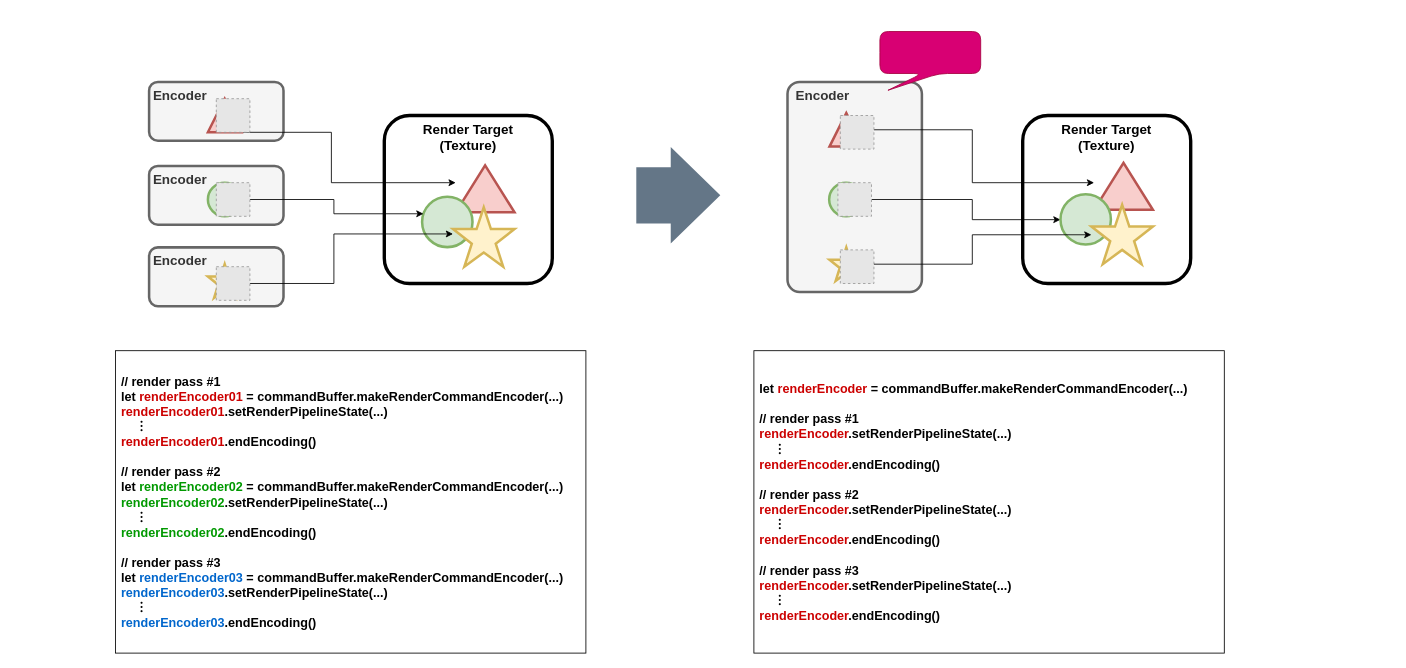
This 1406x668 diagram has some shape labels left out. Grey dashed boxes stand in for pictures. Here are the shapes that lost their labels. From the top down, the centre of each, then its label:
point (930, 60): Improved performance
point (678, 195): Merge
